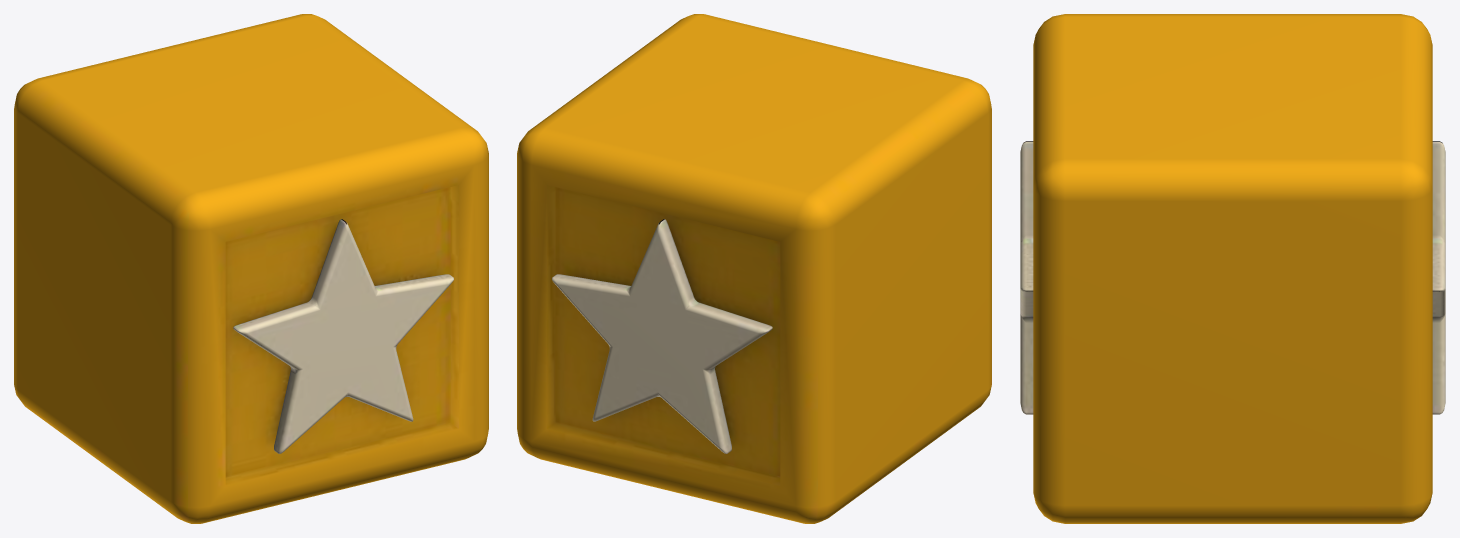
The model's file is yildiz.glb.
3 views of the same model, side by side, from view 1: azimuth 30°, elevation 25°; view 2: azimuth 150°, elevation 25°; view 3: azimuth 270°, elevation 25° (orthographic). The views are drawn at different scales.
Parts seen in each view (by area): view 1: blok; view 2: blok; view 3: blok.
Part boxes in pixels (<box>): blok: <box>14,14,488,523</box>; blok: <box>517,14,991,523</box>; blok: <box>1020,14,1445,523</box>.
Bounding box in the file's own units: 1 × 1 × 1.06.
2 materials, 2 textured.
